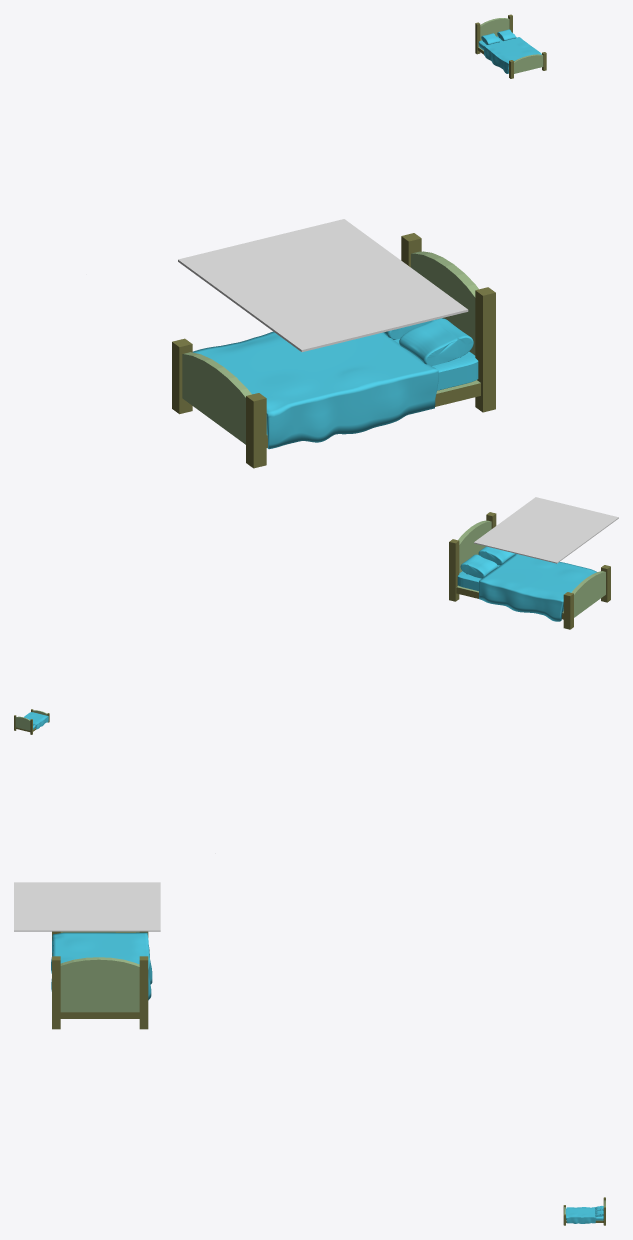
The model's file is bed 3d cartoon.fbx.
3 views of the same model, one above another, from view 1: azimuth 30°, elevation 25°; view 2: azimuth 150°, elevation 25°; view 3: azimuth 270°, elevation 25° (orthographic). The views are drawn at different scales.
Parts seen in each view (by area): view 1: Plane.006, Plane.008, Cube.033, Cube.029, Cube.036, Cube.034; view 2: Plane.006, Plane.008, Cube.033, Cube.029, Cube.035; view 3: Plane.006, Cube.033, Plane.008, Cube.029.
Boxes of the visible parts, x1,y1,x2,y2 form: Plane.006: (178,219,468,352); Plane.008: (192,331,438,449); Cube.033: (172,233,495,468); Cube.029: (475,14,546,78); Cube.036: (399,318,473,365); Cube.034: (394,339,478,390); Plane.006: (474,497,618,563); Plane.008: (479,554,596,621); Cube.033: (449,512,610,629); Cube.029: (14,709,49,734); Cube.035: (460,554,497,578); Plane.006: (14,882,160,931); Cube.033: (52,931,148,1029); Plane.008: (51,932,152,1000); Cube.029: (563,1197,605,1225).
Bounding box in the file's own units: 14813 × 7233 × 18059.
